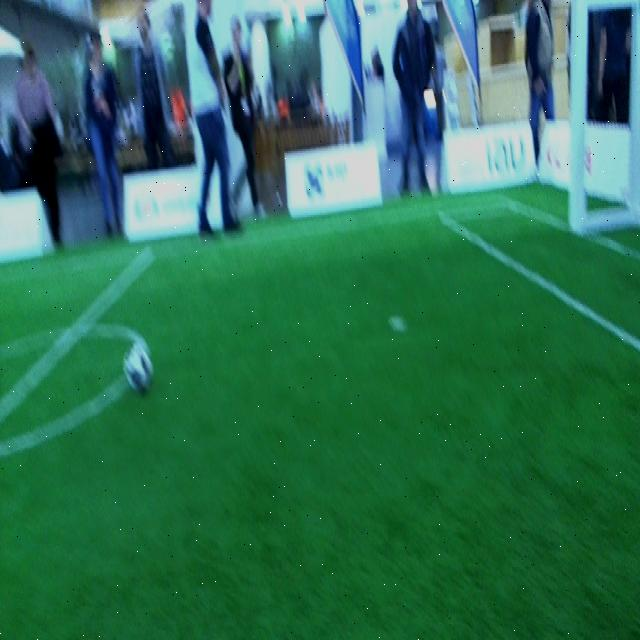ball: (124, 338, 153, 389)
goalpost: (570, 5, 588, 235)
